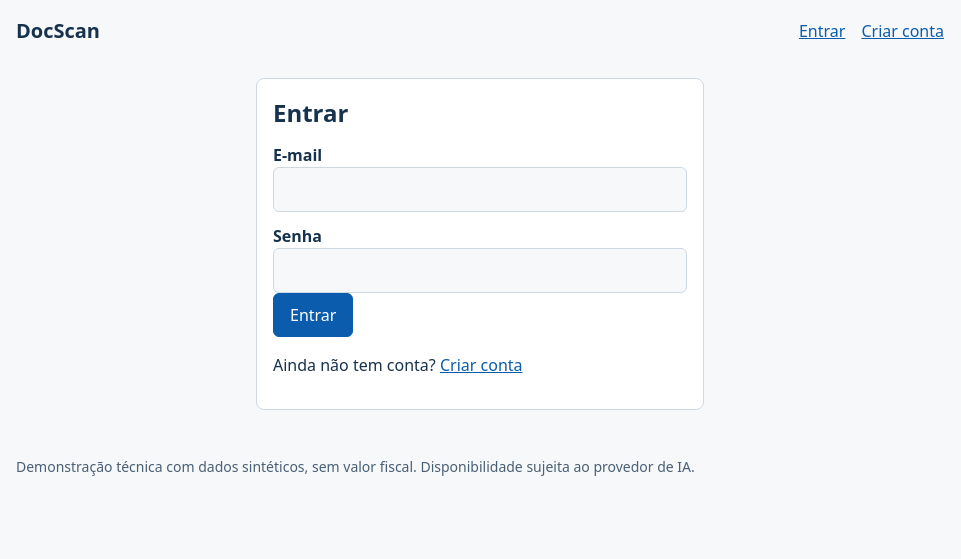
conta › sair apaga o token e bloqueia a jornada
In the field labelled "E-mail": (480, 190) [273,167,687,212], type "visitante@example.test"
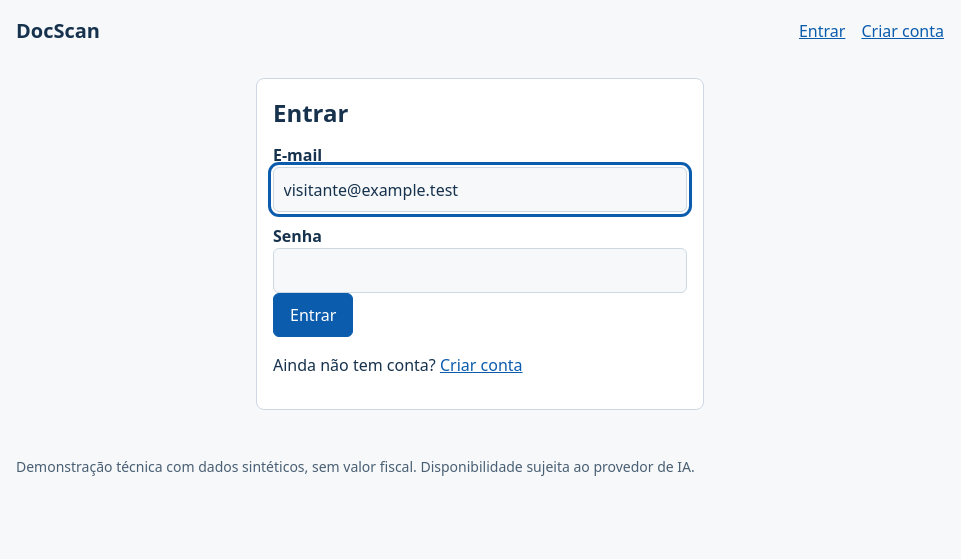
In the password field labelled "Senha": (480, 271) [273,248,687,293], type "senha-correta-123"
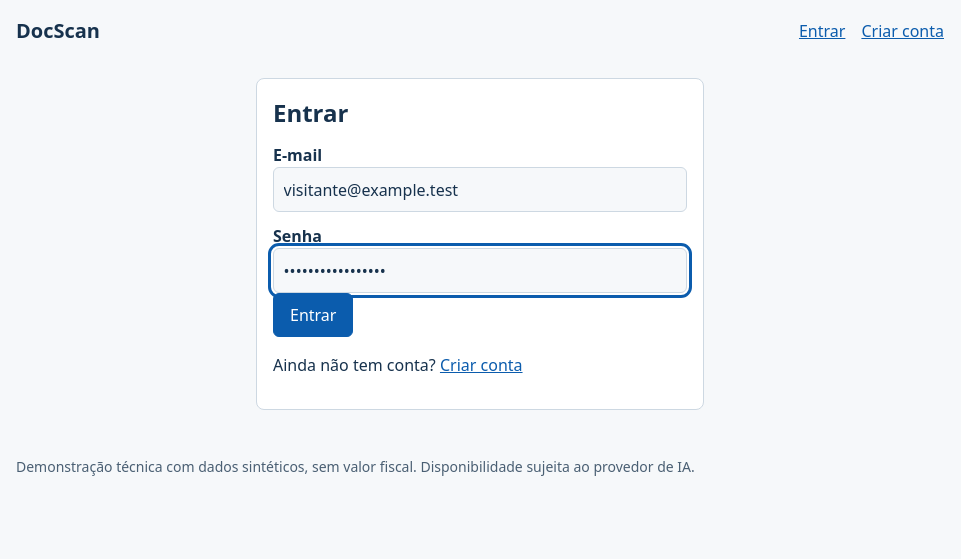
Click the button "Entrar": (313, 315) [273,293,353,337]
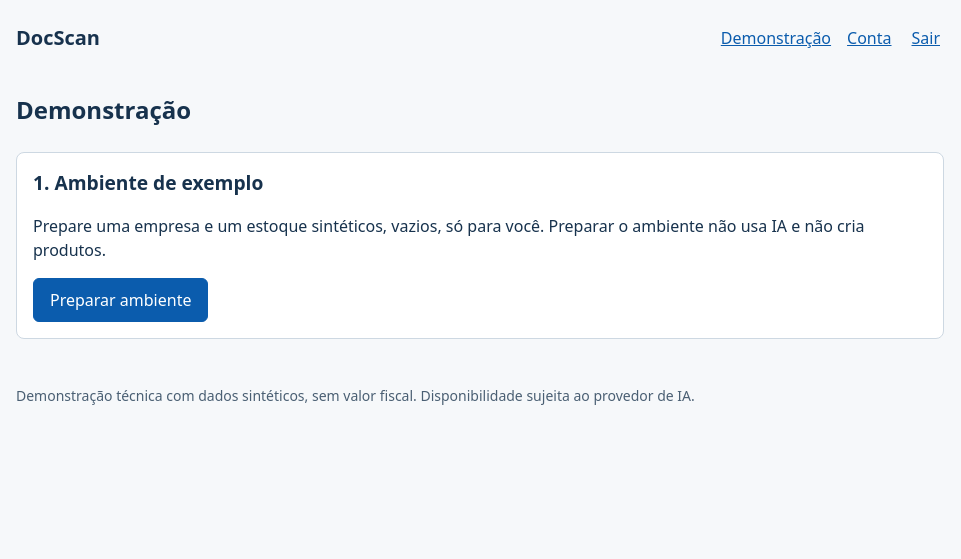
expect the heading "Demonstração" is shown: met, box [16,93,191,126]
Click the button "Sair": (926, 38) [908,16,944,60]
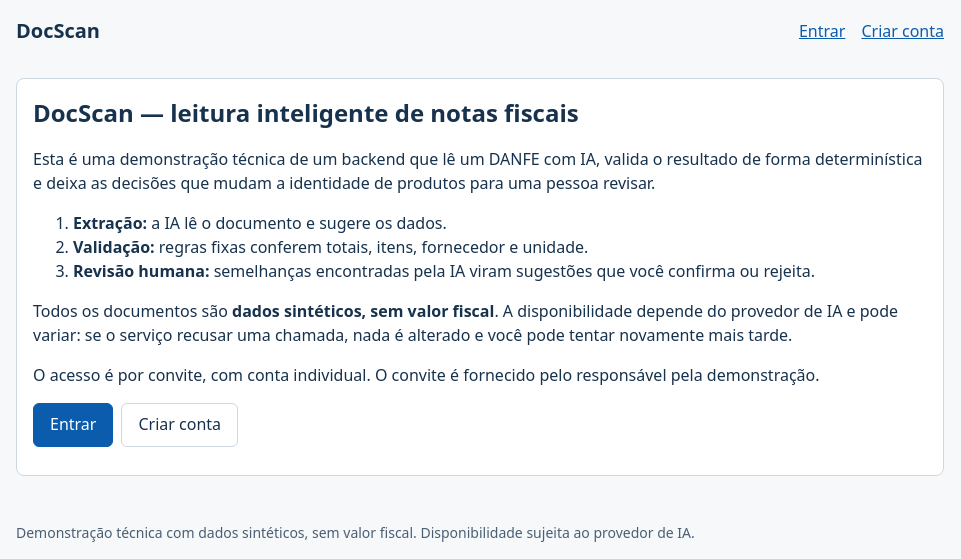
expect the heading "DocScan — leitura inteligente de notas fiscais" is shown: met, box [33,96,579,129]
